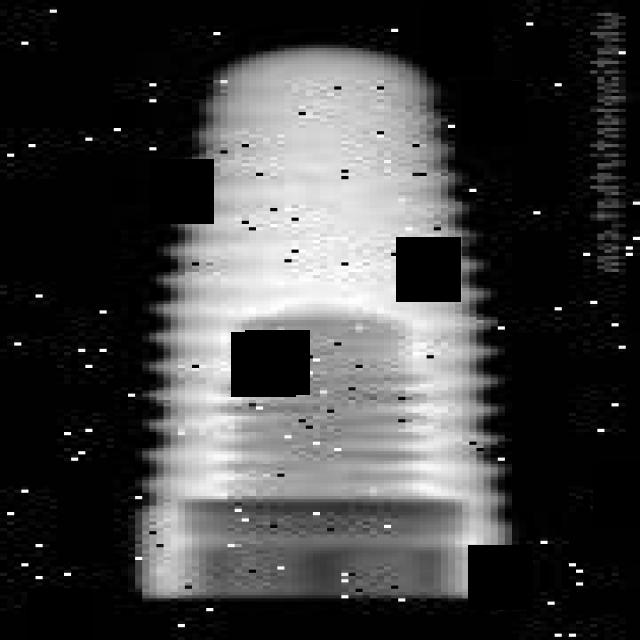OCO Biomedical Implant: (138, 47, 512, 598)
